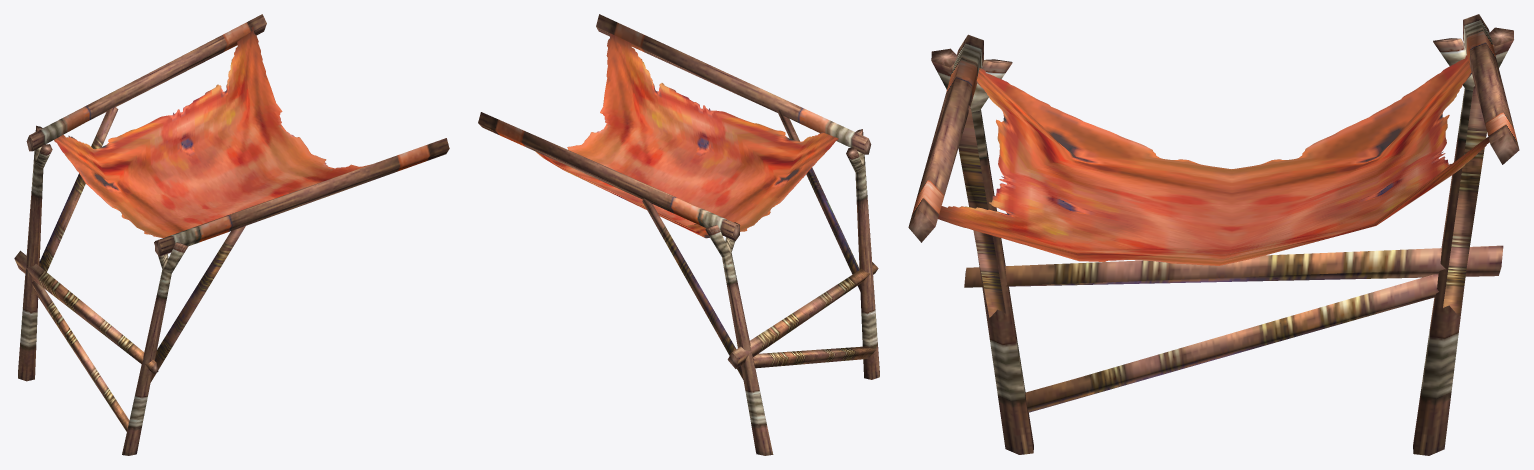
The model's file is goblintent07.obj.
The picture shows the model from 3 angles, left to right: view 1: azimuth 30°, elevation 25°; view 2: azimuth 150°, elevation 25°; view 3: azimuth 270°, elevation 25°; orthographic projection. The views are drawn at different scales.
Visible parts, largest first — view 1: goblintent07; view 2: goblintent07; view 3: goblintent07.
Boxes of the visible parts, bbox=[...] form: goblintent07: bbox=[14, 14, 449, 455]; goblintent07: bbox=[478, 14, 879, 455]; goblintent07: bbox=[908, 14, 1519, 455].
Bounding box in the file's own units: 5.63 × 5.15 × 5.06.
1 material, 1 textured.
